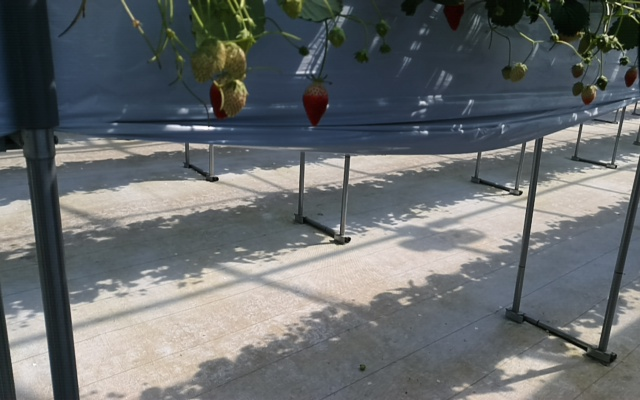GreenStrawberry: (187, 40, 226, 86), (217, 43, 248, 81), (224, 79, 248, 116), (509, 63, 526, 83), (570, 80, 584, 96), (572, 63, 585, 80), (597, 77, 608, 89)
MatureStrawberry: (302, 82, 329, 131), (582, 84, 597, 107), (624, 66, 638, 88)
